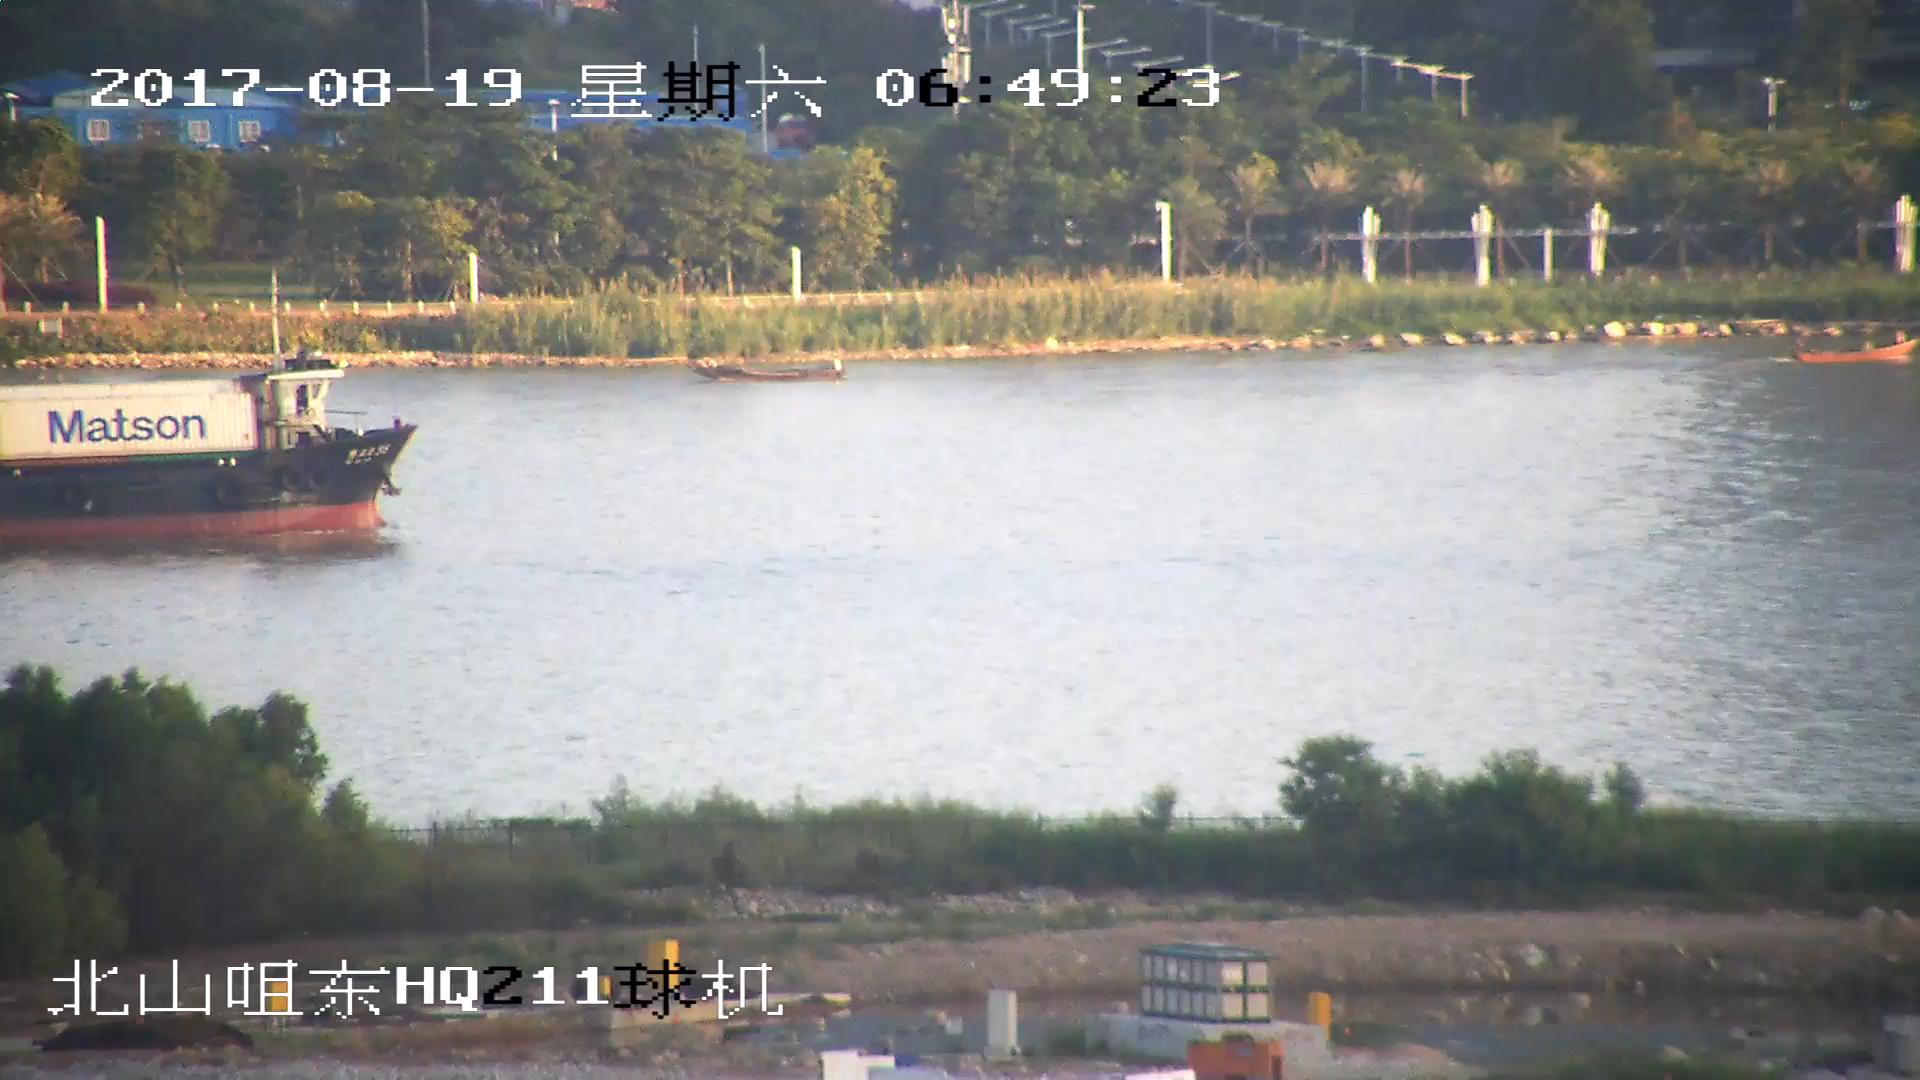container ship: (1, 278, 416, 539)
fishing boat: (699, 350, 846, 384), (1793, 333, 1920, 370)
